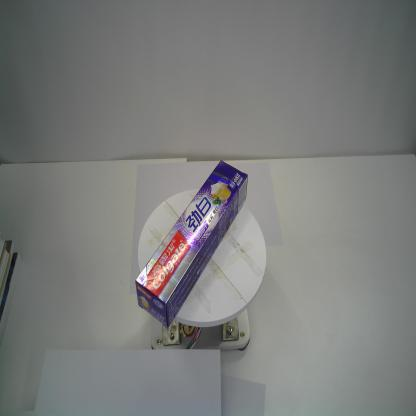Personal Hygiene: (134, 157, 248, 330)
